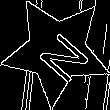N_NW: (25, 19, 88, 82)
